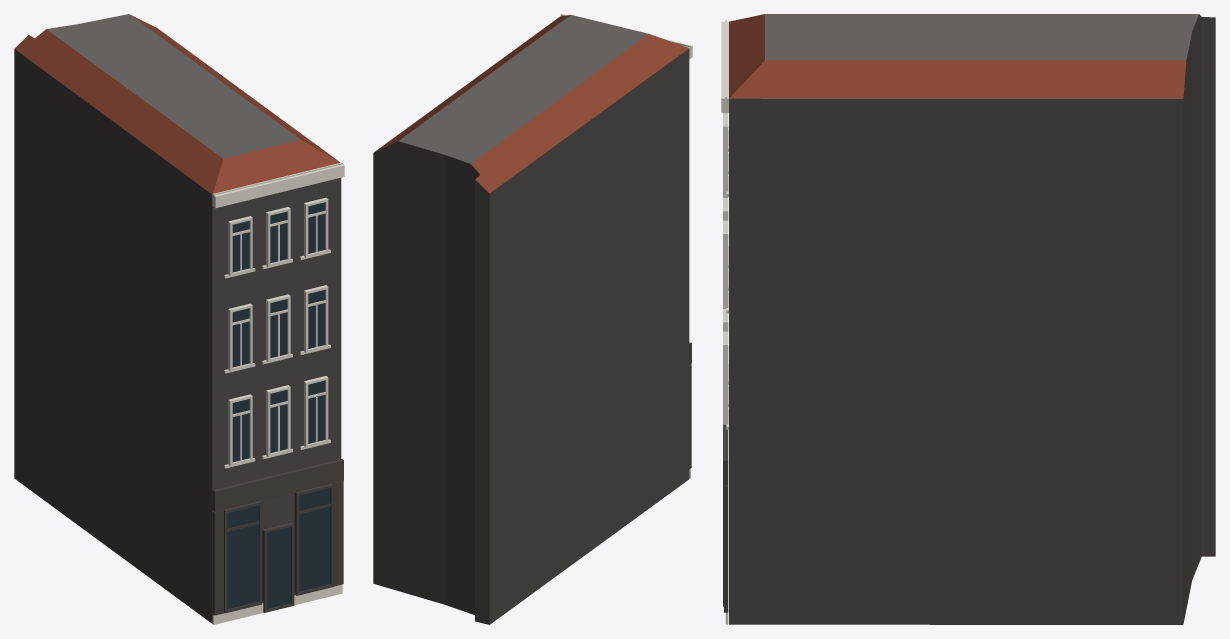
3 renders of one model, left to right at view 1: azimuth 30°, elevation 25°; view 2: azimuth 150°, elevation 25°; view 3: azimuth 270°, elevation 25°, orthographic. The views are drawn at different scales.
Visible parts, largest first — view 1: spec-0363100012253819; view 2: spec-0363100012253819; view 3: spec-0363100012253819.
Part boxes in pixels (x1,y1,x2,y2): spec-0363100012253819: [14, 14, 344, 624]; spec-0363100012253819: [373, 14, 692, 624]; spec-0363100012253819: [721, 14, 1215, 624].
Size of the model in its own units: 4.14 by 13.69 by 11.17.
